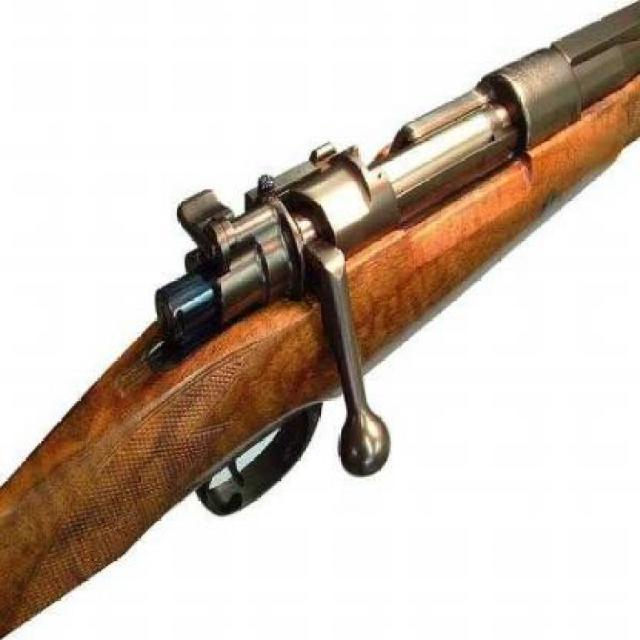weapon: (0, 9, 640, 620)
